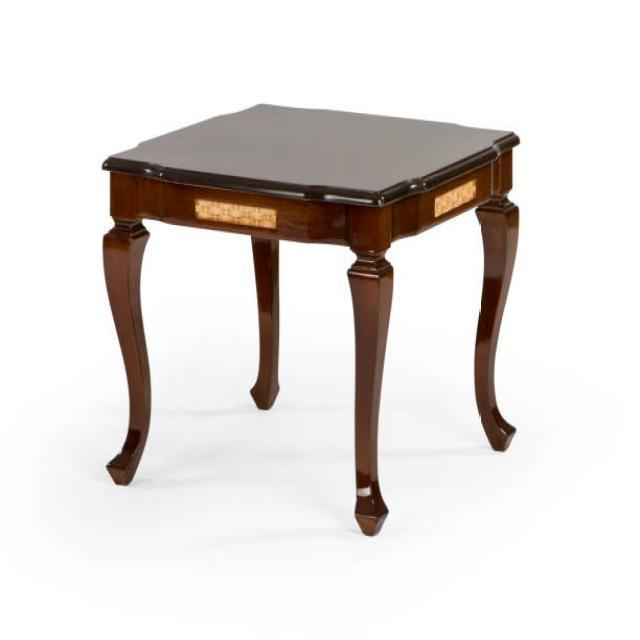table: (100, 100, 521, 536)
